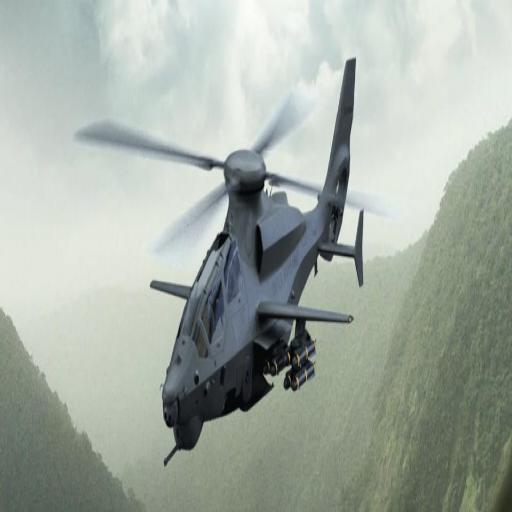helicopter: (74, 46, 376, 479)
